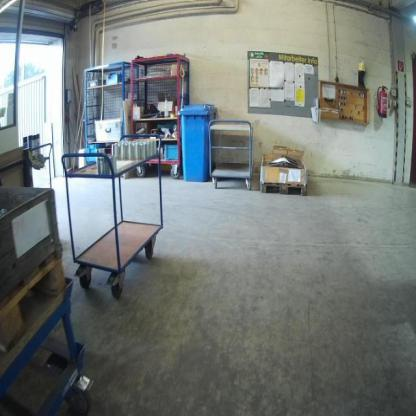pallet: (0, 251, 67, 371), (259, 180, 308, 197)
small_load_carrier: (164, 145, 178, 161)
